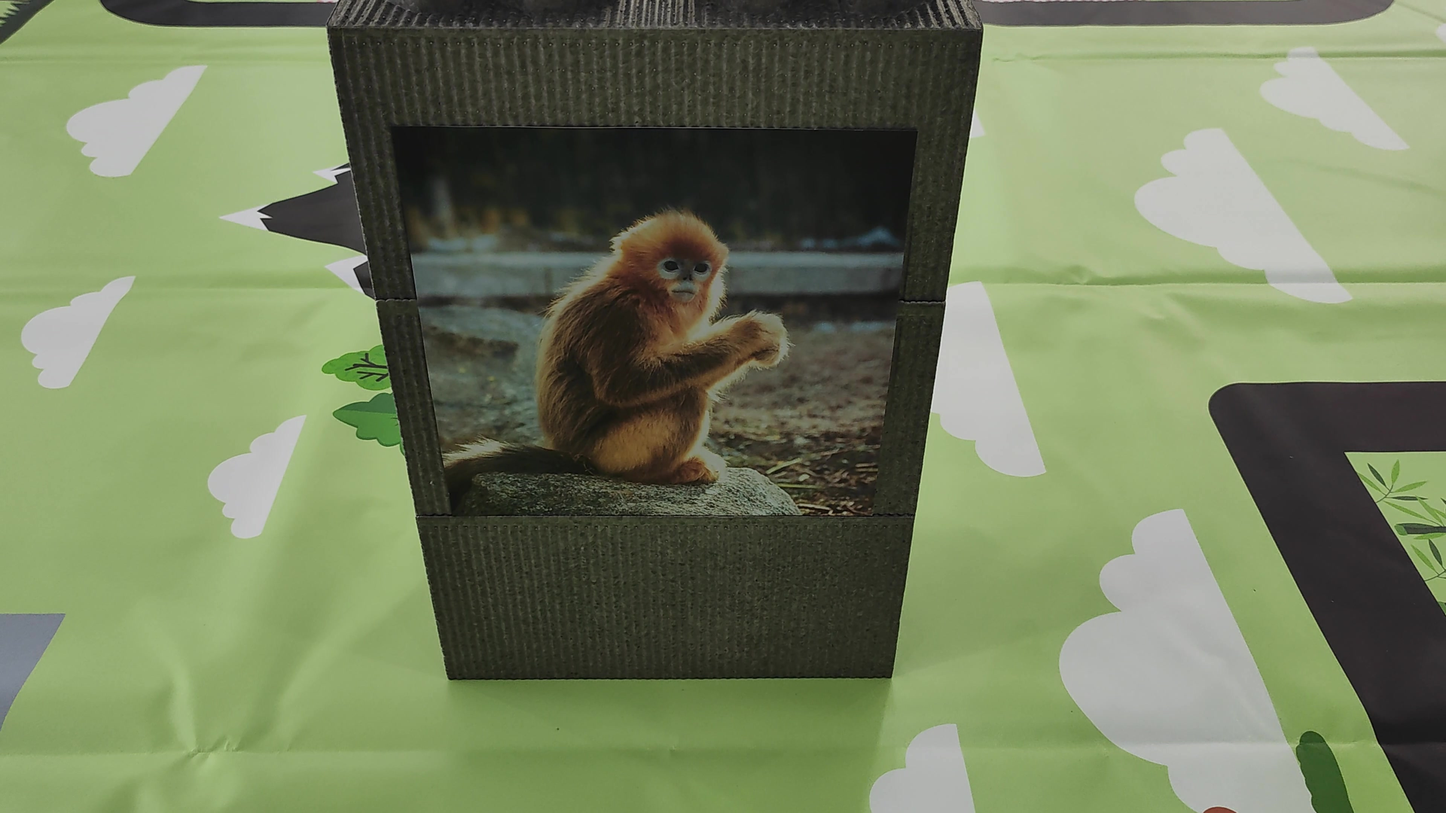monkey: (496, 128, 863, 501)
